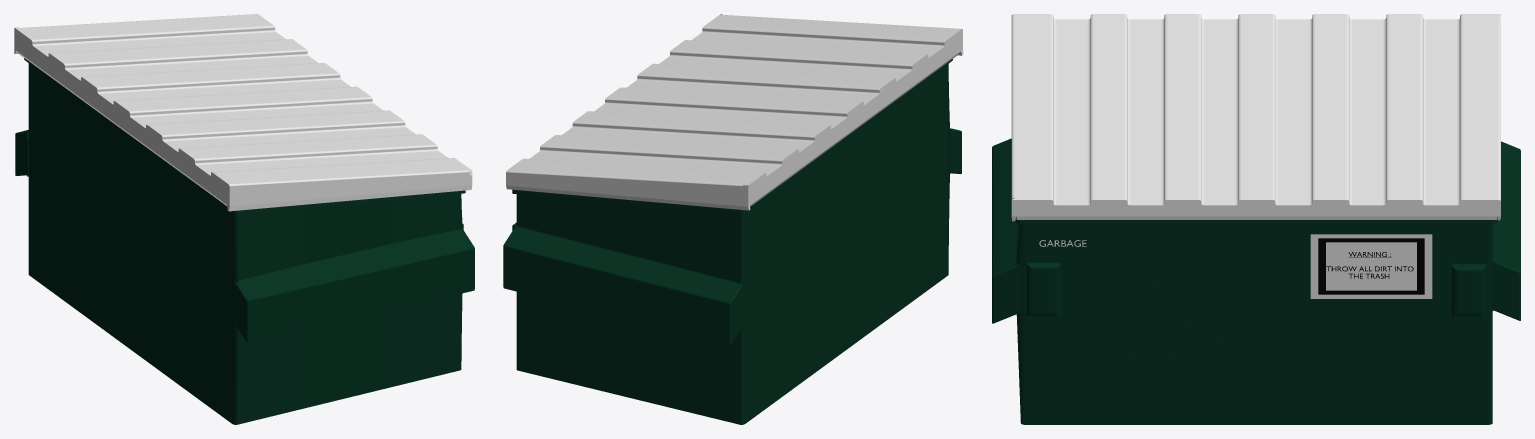
File: uploads_files_2498863_dumpster++trial+.fbx
3 renders of one model, left to right at view 1: azimuth 30°, elevation 25°; view 2: azimuth 150°, elevation 25°; view 3: azimuth 270°, elevation 25°, orthographic. The views are drawn at different scales.
Parts seen in each view (by area): view 1: Cube, Cube.001, Cube.002; view 2: Cube, Cube.001, Cube.002; view 3: Cube.001, Cube, Cube.002, Plane.001.
Part boxes in pixels (x1,y1,x2,y2): Cube: [24, 58, 465, 424]; Cube.001: [14, 14, 472, 211]; Cube.002: [15, 130, 474, 343]; Cube: [512, 59, 952, 424]; Cube.001: [506, 14, 963, 210]; Cube.002: [503, 128, 961, 345]; Cube.001: [1011, 14, 1500, 221]; Cube: [1016, 217, 1497, 424]; Cube.002: [992, 138, 1520, 323]; Plane.001: [1310, 234, 1432, 298].
Bounding box in the file's own units: 5294 × 5063 × 8691.
